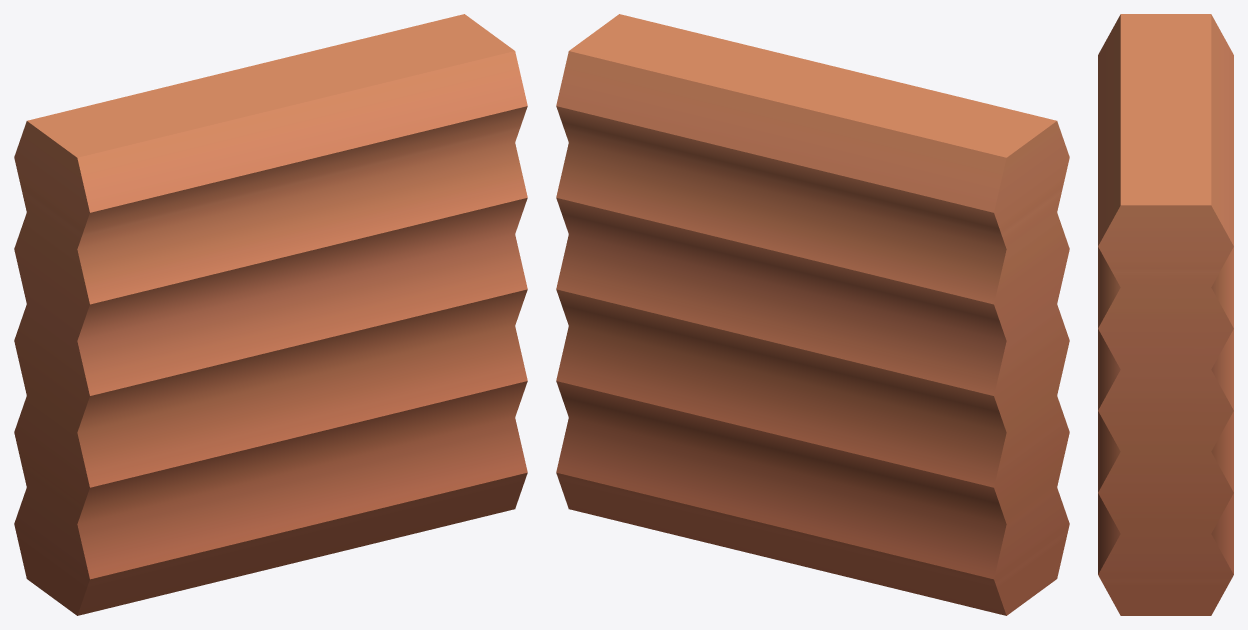
The model's file is kenney-holiday-cabin-wall.glb.
3 views of the same model, side by side, from view 1: azimuth 30°, elevation 25°; view 2: azimuth 150°, elevation 25°; view 3: azimuth 270°, elevation 25° (orthographic). The views are drawn at different scales.
Visible parts, largest first — view 1: cabin-wall; view 2: cabin-wall; view 3: cabin-wall.
Part boxes in pixels (box(x1,y1,x2,y2)): cabin-wall: box(14, 14, 527, 615); cabin-wall: box(556, 14, 1069, 615); cabin-wall: box(1098, 14, 1233, 615).
Bounding box in the file's own units: 1 × 1 × 0.3.
1 material, 1 textured.
